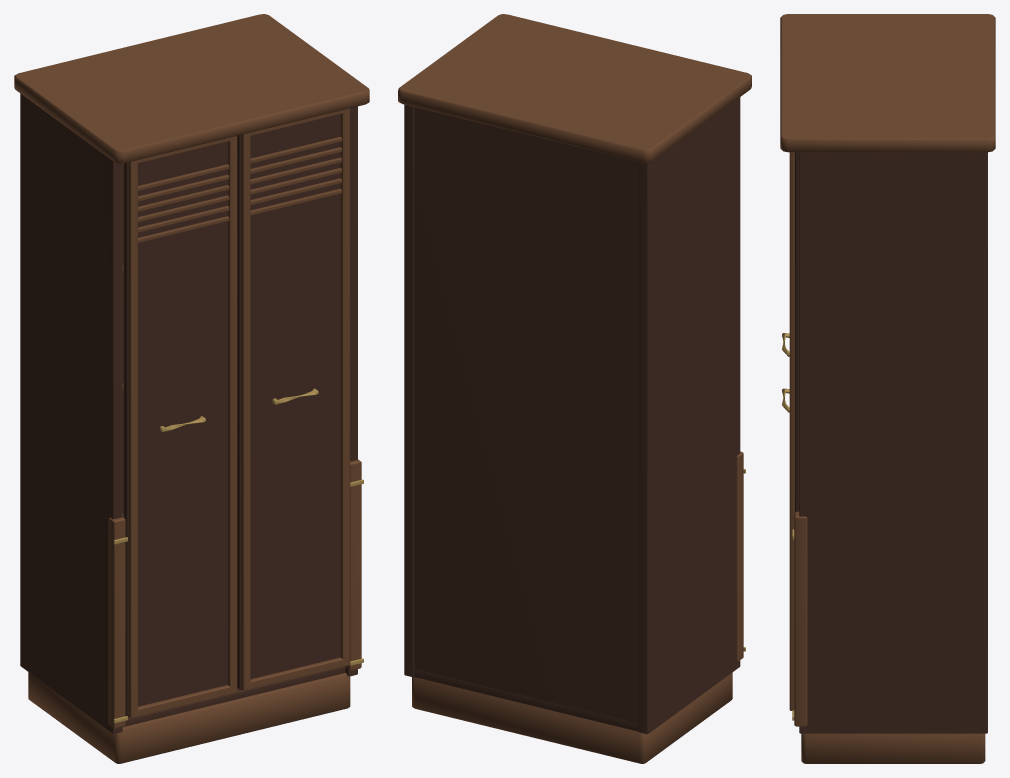
The model's file is rpg-mansion-kitchen-tall-larder-900-01.glb.
3 views of the same model, side by side, from view 1: azimuth 30°, elevation 25°; view 2: azimuth 150°, elevation 25°; view 3: azimuth 270°, elevation 25° (orthographic).
Parts seen in each view (by area): view 1: rpg-mansion-kitchen-tall-larder-900-01; view 2: rpg-mansion-kitchen-tall-larder-900-01; view 3: rpg-mansion-kitchen-tall-larder-900-01.
Boxes of the visible parts, x1,y1,x2,y2 form: rpg-mansion-kitchen-tall-larder-900-01: (14,14,369,763); rpg-mansion-kitchen-tall-larder-900-01: (398,14,751,763); rpg-mansion-kitchen-tall-larder-900-01: (780,14,995,763).
Size of the model in its own units: 0.9 by 2.1 by 0.65.
